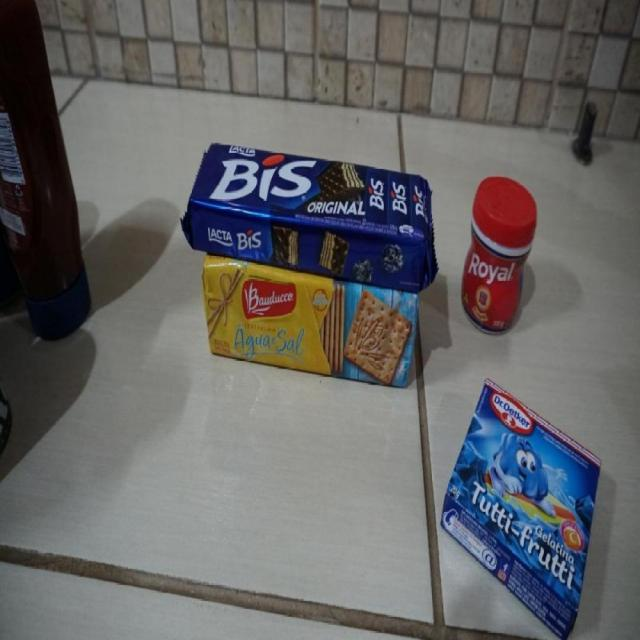Cracker: (201, 252, 417, 395)
Gelatine: (437, 376, 606, 639)
Ketchup: (0, 0, 91, 340)
Yeast: (459, 173, 538, 336)
